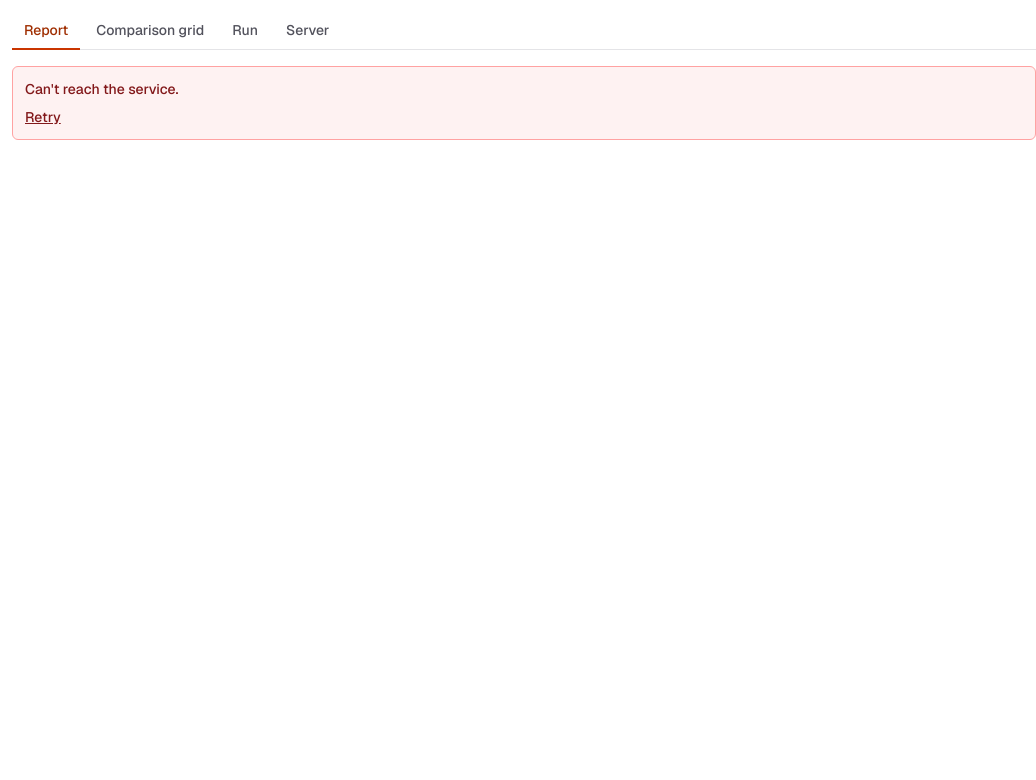
Evaluation page › shows a load error with retry
Expected: the message shows "Can't reach", [25, 80, 179, 98]
Click the button "Retry" at (43,117), box [25, 107, 61, 127]
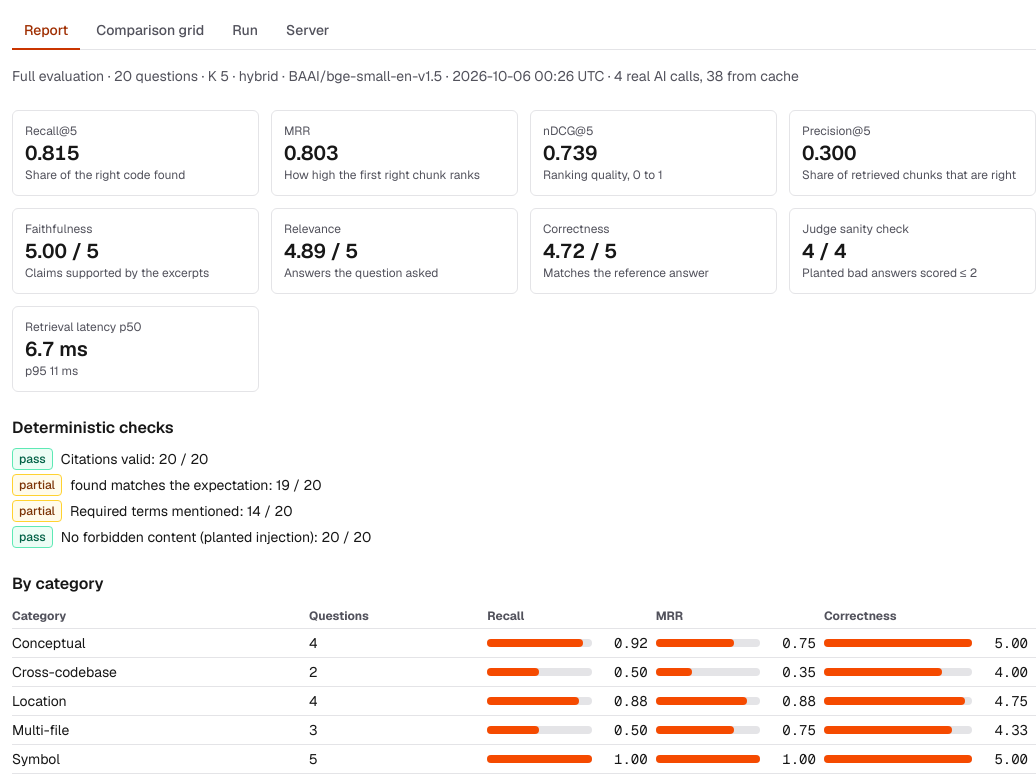
Expected: the text "0.815" is shown, [25, 140, 79, 166]
